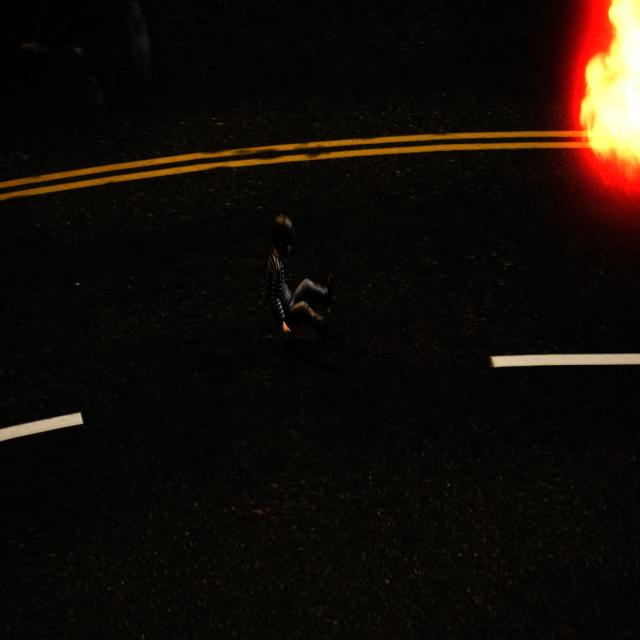Human: (259, 207, 341, 338)
